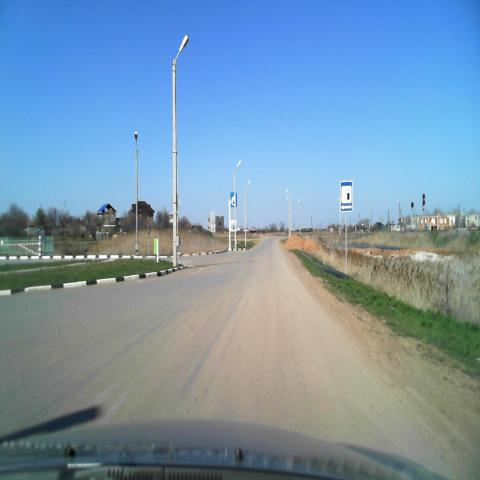7_3: (341, 181, 352, 211)
